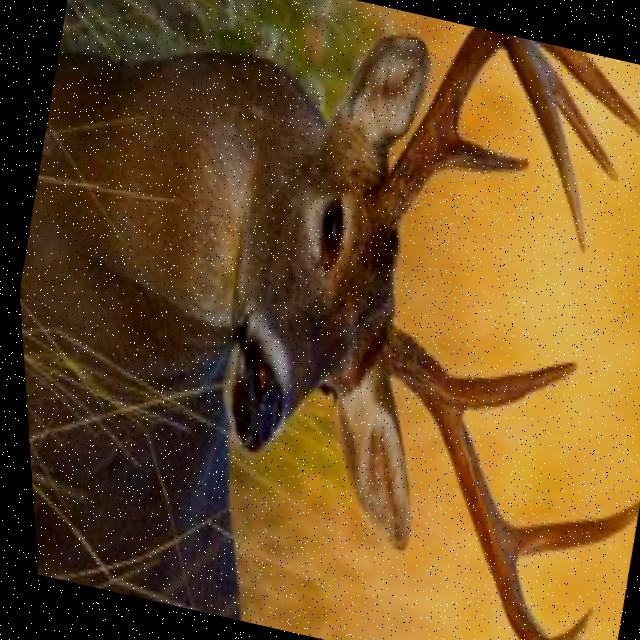L-F: (375, 325, 583, 640)
L-G1: (444, 359, 574, 413)
L-G2: (495, 494, 634, 561)
R-F: (360, 26, 583, 261)
R-G1: (432, 129, 530, 173)
R-G2: (533, 40, 640, 141)
R-G3: (547, 61, 619, 183)
